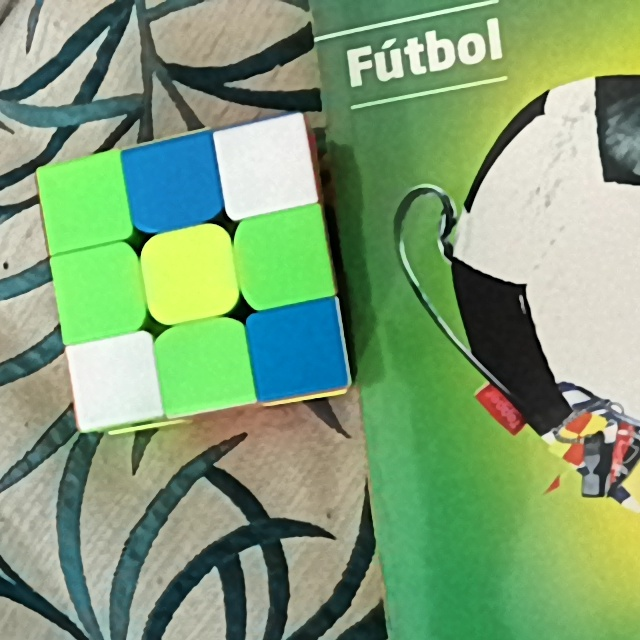tile: (256, 315, 336, 386), (252, 221, 322, 294), (154, 239, 226, 309), (225, 133, 299, 201), (140, 149, 213, 216), (167, 334, 240, 401), (45, 173, 119, 239), (80, 348, 150, 414), (67, 259, 136, 325)
